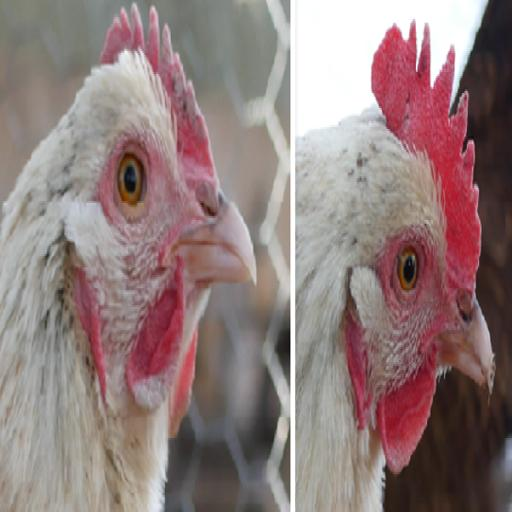disease: (126, 4, 224, 160), (394, 18, 485, 183)
